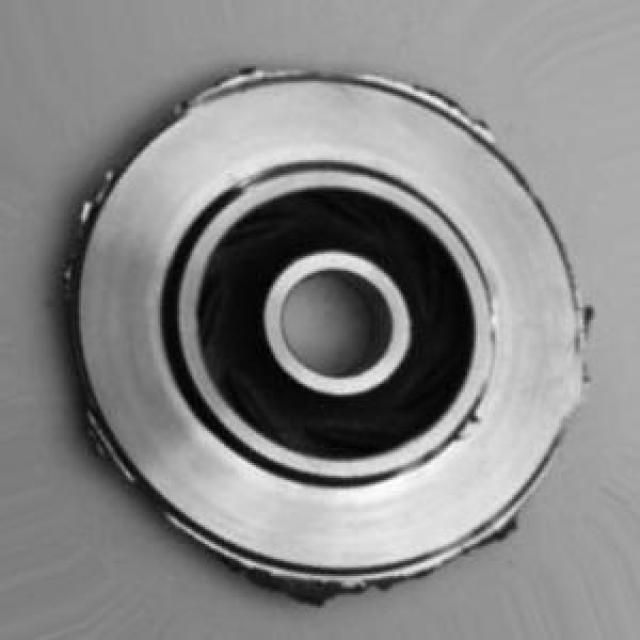Defect: (454, 399, 492, 443)
